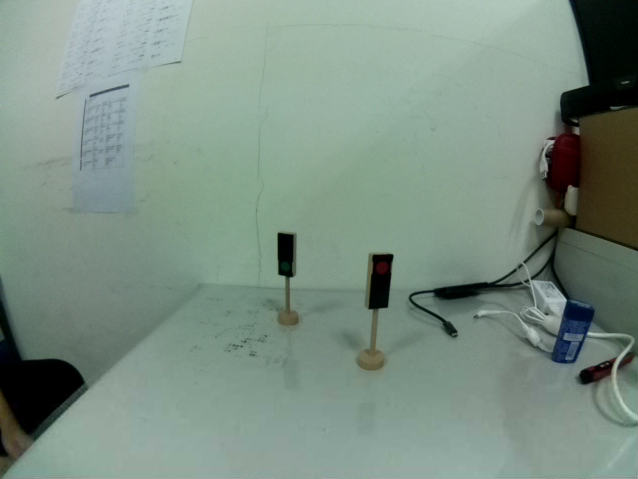Green: (273, 231, 300, 281)
Red: (362, 251, 394, 313)
